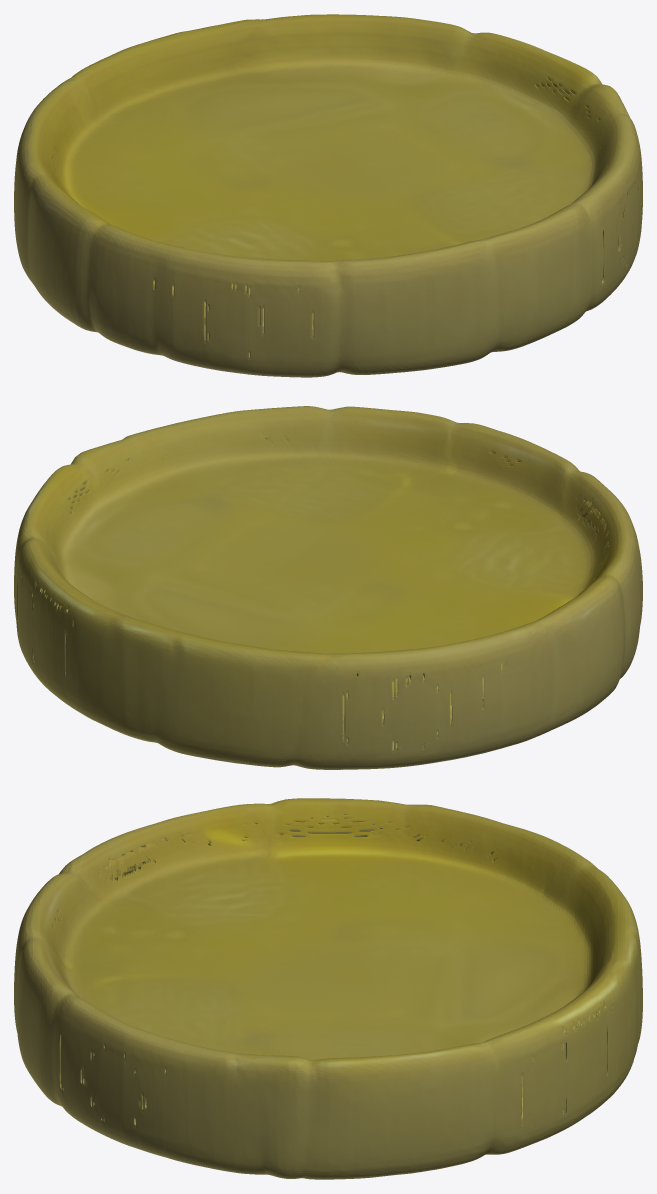
The model's file is asset.glb.
3 renders of one model, top to bottom at view 1: azimuth 30°, elevation 25°; view 2: azimuth 150°, elevation 25°; view 3: azimuth 270°, elevation 25°, orthographic. The views are drawn at different scales.
Parts seen in each view (by area): view 1: geometry_0; view 2: geometry_0; view 3: geometry_0.
Part boxes in pixels (left/top/right/bottom): geometry_0: left=14, top=14, right=642, bottom=377; geometry_0: left=14, top=406, right=642, bottom=769; geometry_0: left=14, top=798, right=642, bottom=1179.
Size of the model in its own units: 0.999 by 0.2054 by 0.9584.
